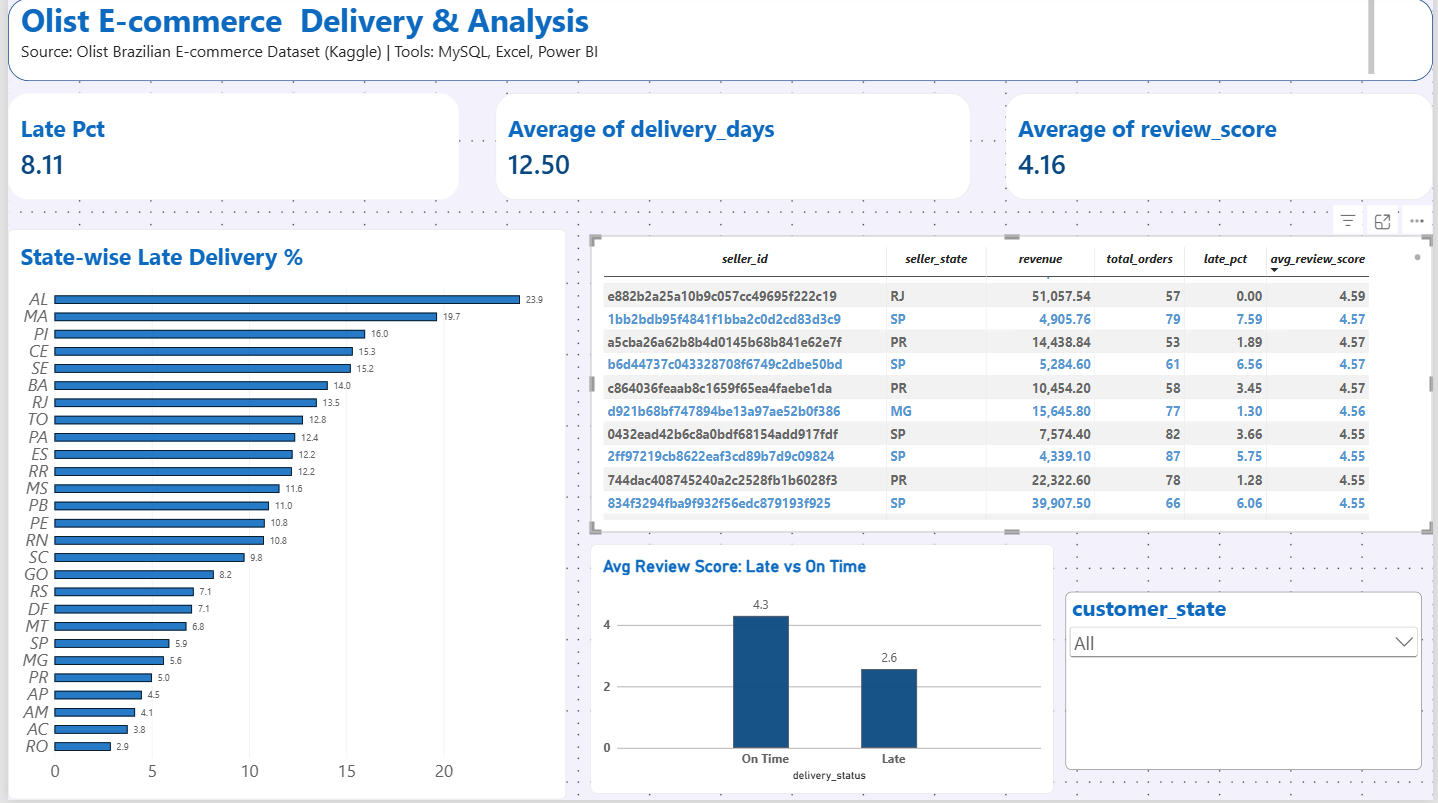

Layout of this report page (visuals, bound fields, positions):
{"tool":"powerbi","page":{"name":"Page 1","canvas":[1920,1080],"ordinal":0},"visuals":[{"type":"shape","box":[0,0,1920,112],"z":1000},{"type":"clusteredBarChart","fields":{"Category":["olist order_delivery.customer_state"],"Y":["olist order_delivery.Late Pct"]},"box":[0,312,752,768],"z":2000},{"type":"slicer","fields":{"Values":["olist order_delivery.customer_state"]},"box":[1424,800,480,240],"z":3000},{"type":"clusteredColumnChart","title":"Avg Review Score: Late vs On Time","fields":{"Category":["olist order_delivery.delivery_status"],"Y":["Avg(olist order_delivery.review_score)"]},"box":[784,736,624,336],"z":4000},{"type":"tableEx","fields":{"Values":["olist seller_performance.seller_id","olist seller_performance.seller_state","olist seller_performance.revenue","olist seller_performance.total_orders","olist seller_performance.late_pct","olist seller_performance.avg_review_score"]},"box":[784,320,1136,400],"z":5000},{"type":"textbox","box":[16,0,1824,112],"z":6000},{"type":"cardVisual","fields":{"Data":["olist order_delivery.Late Pct"]},"box":[0,128,608,144],"z":7000},{"type":"cardVisual","fields":{"Data":["Avg(olist order_delivery.delivery_days)"]},"box":[656,128,640,144],"z":8000},{"type":"cardVisual","fields":{"Data":["Avg(olist order_delivery.review_score)"]},"box":[1344,128,576,144],"z":9000}]}

Visuals, with their boxes in screenshot pixels (x1, y1, x2, y2), scaled from the page's 1920x1080 canvas onto the 1438x803 screenshot:
shape: crop(0, 0, 1437, 83)
clusteredBarChart - olist order_delivery.customer_state x olist order_delivery.Late Pct: crop(0, 232, 563, 802)
slicer - olist order_delivery.customer_state: crop(1067, 595, 1426, 773)
"Avg Review Score: Late vs On Time" clusteredColumnChart: crop(587, 547, 1055, 797)
tableEx - olist seller_performance.seller_id x olist seller_performance.seller_state: crop(587, 238, 1437, 535)
textbox: crop(12, 0, 1378, 83)
cardVisual - olist order_delivery.Late Pct: crop(0, 95, 455, 202)
cardVisual - Avg(olist order_delivery.delivery_days): crop(491, 95, 971, 202)
cardVisual - Avg(olist order_delivery.review_score): crop(1007, 95, 1437, 202)
